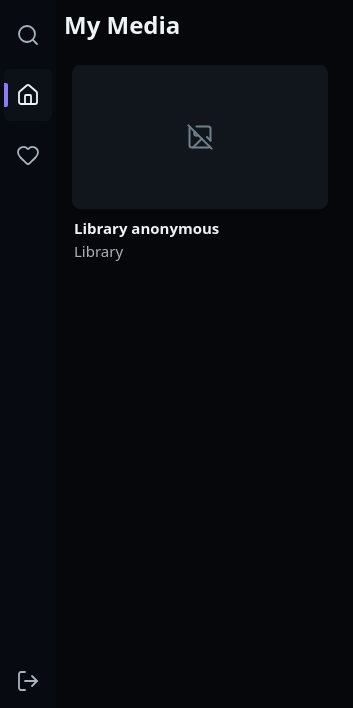
it: App Home orchestration › ignores stale supplemental results after a newer Home generation completes
Check: the button with aria-label "Open Library anonymous" is shown, box [64,57,336,269]
Click the button named "Home" at [28, 95], box [4,69,52,121]
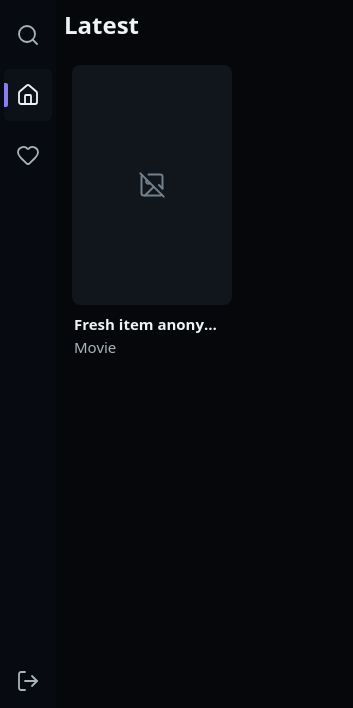
Check: the button with aria-label "Open Fresh item anonymous" is shown, box [64,57,240,365]
Check: the text "Fresh item anonymous" is shown, box [74,313,230,335]
